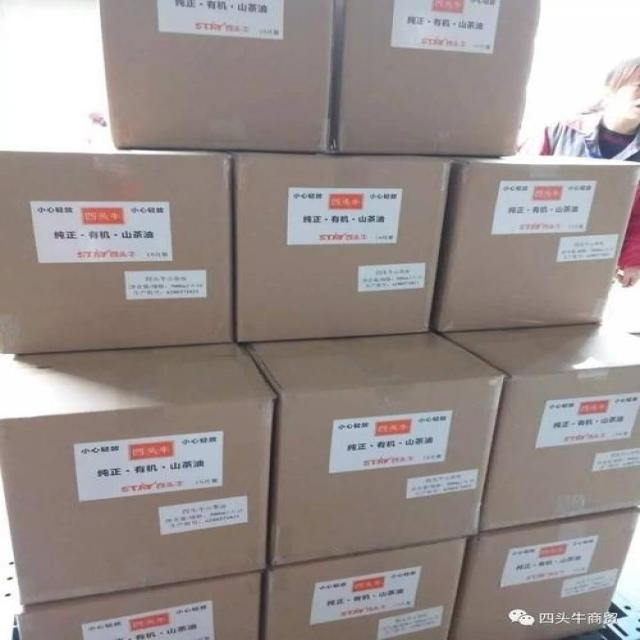box: (1, 343, 278, 606), (237, 330, 505, 568), (0, 152, 232, 353), (431, 324, 639, 533), (233, 153, 450, 341), (430, 156, 639, 330), (100, 0, 333, 152), (327, 0, 544, 159), (453, 508, 639, 639), (260, 536, 467, 639), (17, 570, 259, 639)
